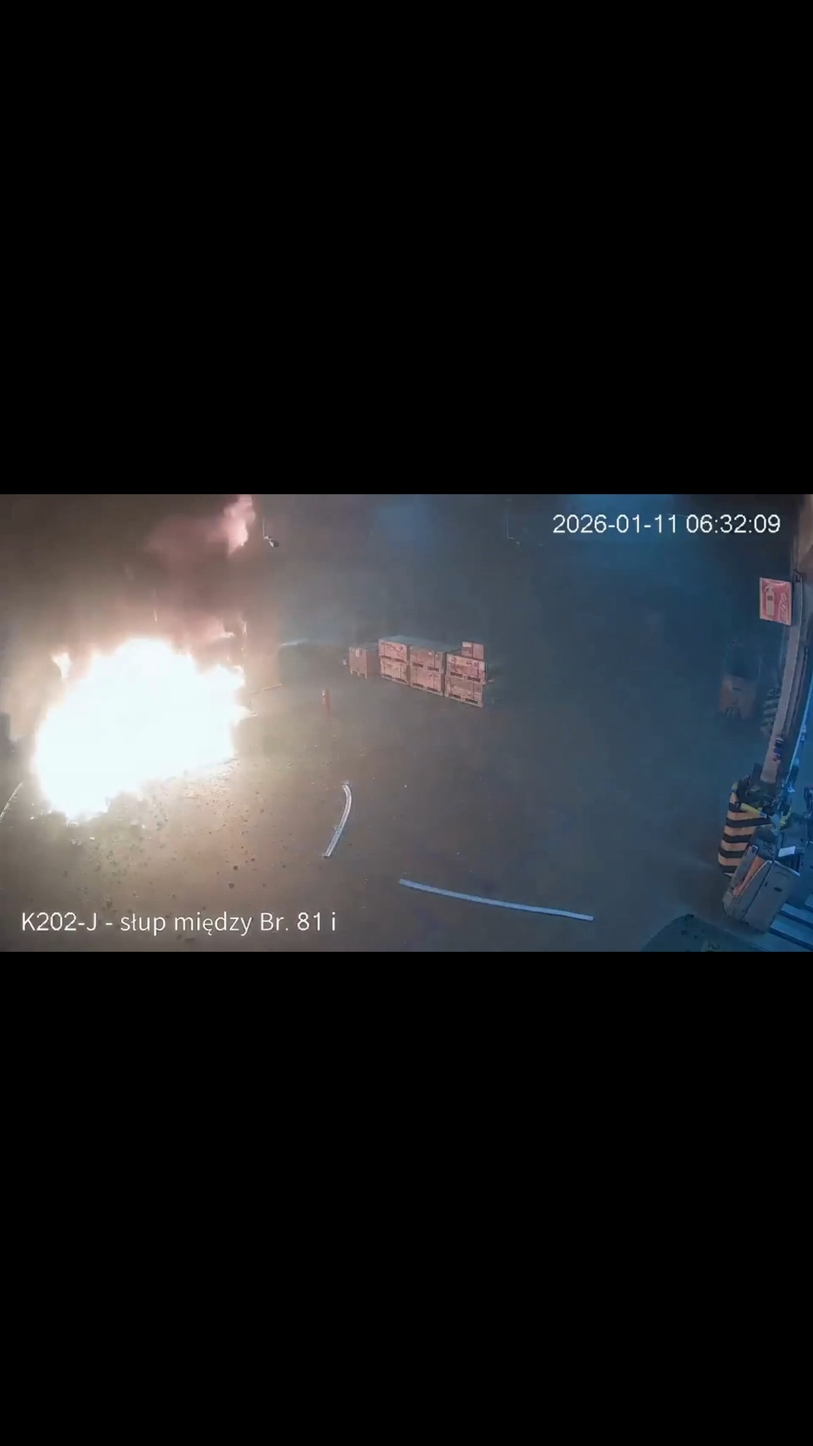fire: (32, 633, 252, 828)
smoke: (3, 495, 528, 666)
